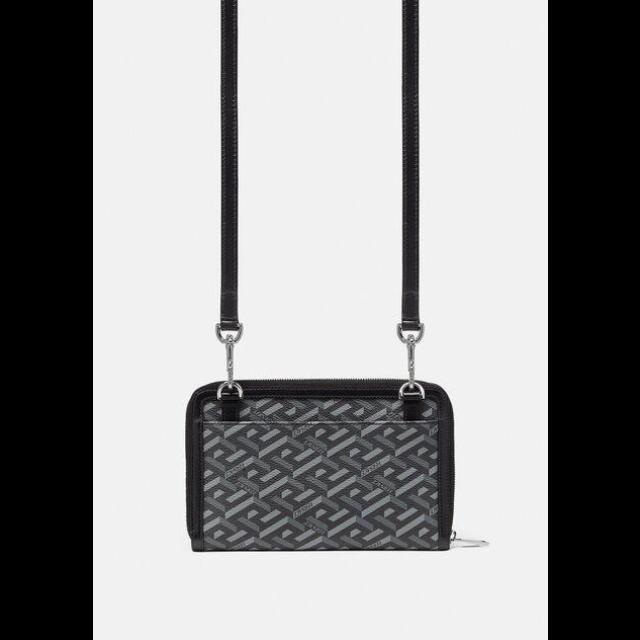wallet: (178, 372, 460, 562)
